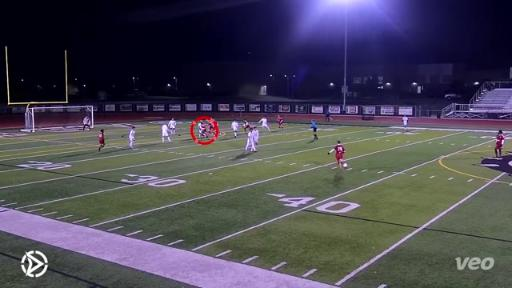highlight_overlay: (190, 114, 219, 145)
